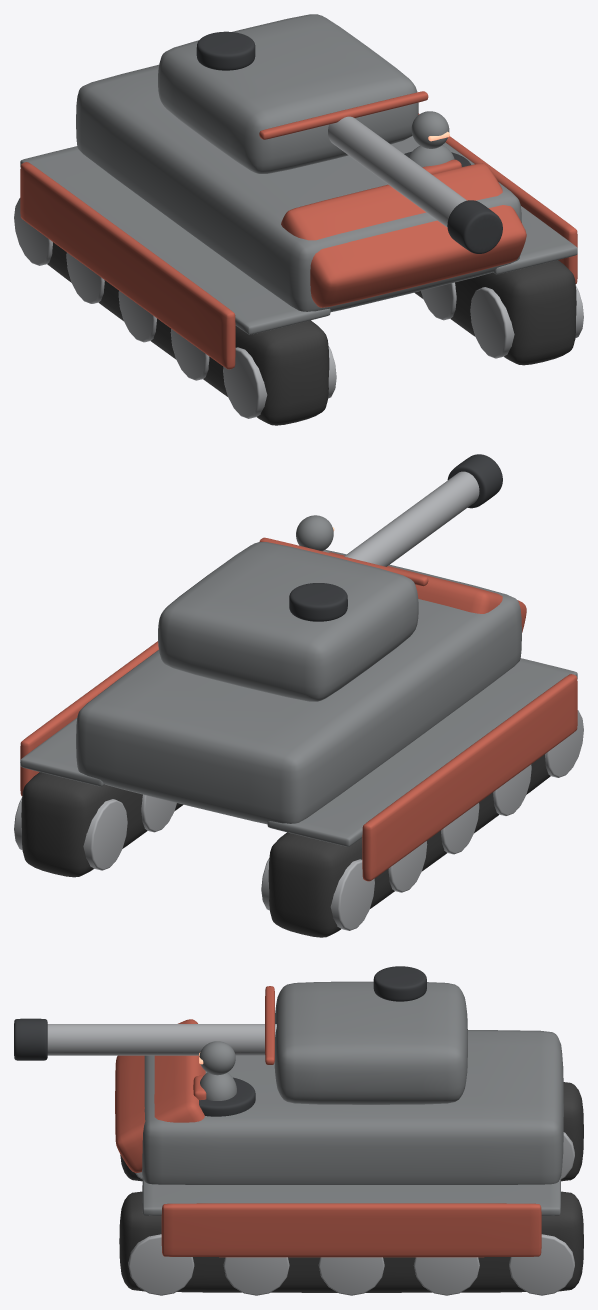
File: vehicle_mediumtank.glb
The picture shows the model from 3 angles, top to bottom: view 1: azimuth 30°, elevation 25°; view 2: azimuth 150°, elevation 25°; view 3: azimuth 270°, elevation 25°; orthographic projection. The views are drawn at different scales.
Visible parts, largest first — view 1: Cube.004, Cube.011, Cube.005, Cube.008, Cube.003, Cube.002, Cube, Cylinder.012, Cylinder, Cylinder.005, Cylinder.013, Cube.001 (+10 smaller); view 2: Cube.004, Cube.011, Cube.008, Cube.003, Cube.002, Cube, Cylinder.012, Cylinder.004, Cylinder.009, Cube.001, Cube.005, Cube.007 (+9 smaller); view 3: Cube.004, Cube.011, Cube.007, Cube, Cube.001, Cylinder.012, Cube.005, Cylinder.004, Cylinder, Cylinder.001, Cylinder.003, Cylinder.002 (+8 smaller).
Part boxes in pixels (left/top/right/bottom): Cube.004: left=76, top=64, right=521, bottom=311; Cube.011: left=158, top=14, right=418, bottom=173; Cube.005: left=281, top=163, right=526, bottom=307; Cube.008: left=20, top=162, right=235, bottom=369; Cube.003: left=20, top=146, right=330, bottom=334; Cube.002: left=47, top=242, right=329, bottom=425; Cube: left=414, top=260, right=576, bottom=365; Cylinder.012: left=328, top=116, right=466, bottom=227; Cylinder: left=470, top=285, right=583, bottom=358; Cylinder.005: left=223, top=345, right=336, bottom=418; Cylinder.013: left=447, top=200, right=502, bottom=253; Cube.001: left=493, top=206, right=577, bottom=274; Cube.004: left=76, top=550, right=521, bottom=824; Cube.011: left=158, top=542, right=418, bottom=701; Cube.008: left=362, top=674, right=577, bottom=881; Cube.003: left=267, top=658, right=577, bottom=846; Cube.002: left=268, top=754, right=550, bottom=937; Cube: left=21, top=772, right=183, bottom=877; Cylinder.012: left=344, top=471, right=479, bottom=566; Cylinder.004: left=14, top=797, right=127, bottom=870; Cylinder.009: left=261, top=857, right=374, bottom=930; Cube.001: left=20, top=718, right=104, bottom=786; Cube.005: left=329, top=552, right=526, bottom=632; Cube.007: left=20, top=641, right=158, bottom=795; Cube.004: left=142, top=1030, right=563, bottom=1184; Cube.011: left=274, top=981, right=467, bottom=1104; Cube.007: left=161, top=1203, right=541, bottom=1257; Cube: left=119, top=1191, right=583, bottom=1292; Cube.001: left=142, top=1177, right=560, bottom=1215; Cylinder.012: left=47, top=1024, right=276, bottom=1055; Cube.005: left=115, top=1019, right=205, bottom=1172; Cylinder.004: left=509, top=1234, right=574, bottom=1295; Cylinder: left=128, top=1234, right=194, bottom=1295; Cylinder.001: left=223, top=1257, right=289, bottom=1295; Cylinder.003: left=413, top=1257, right=479, bottom=1295; Cylinder.002: left=318, top=1257, right=384, bottom=1295.
Bounding box in the file's own units: 2.2 × 1.52 × 3.37.
Materials: 2 (2 with a texture image).
